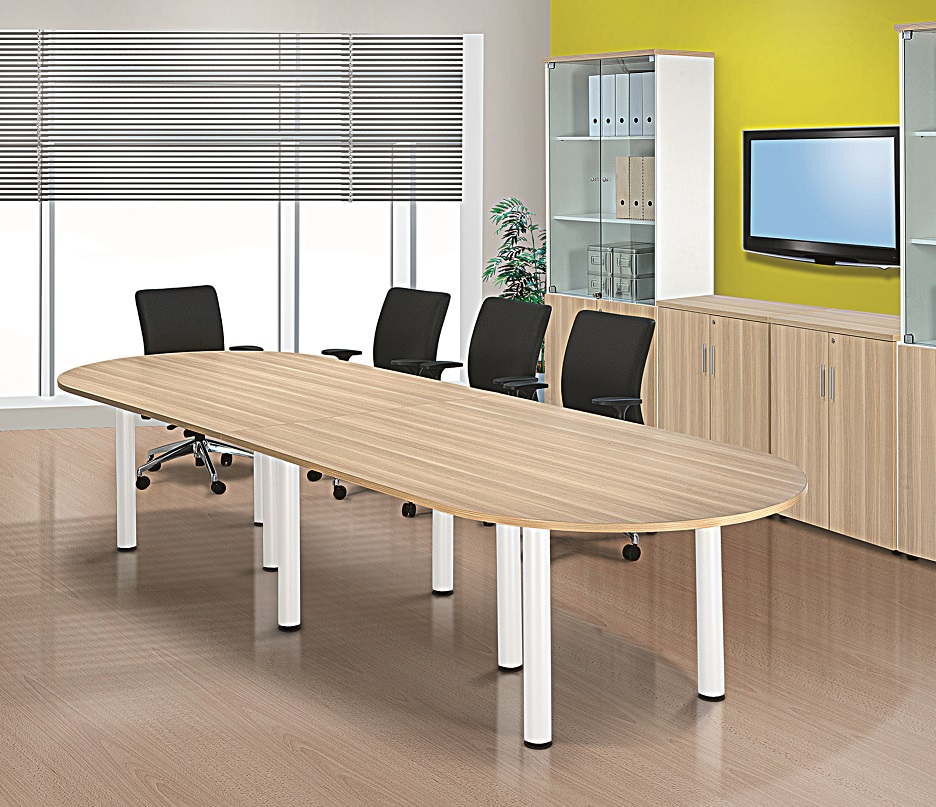conference_table: (56, 350, 809, 751)
